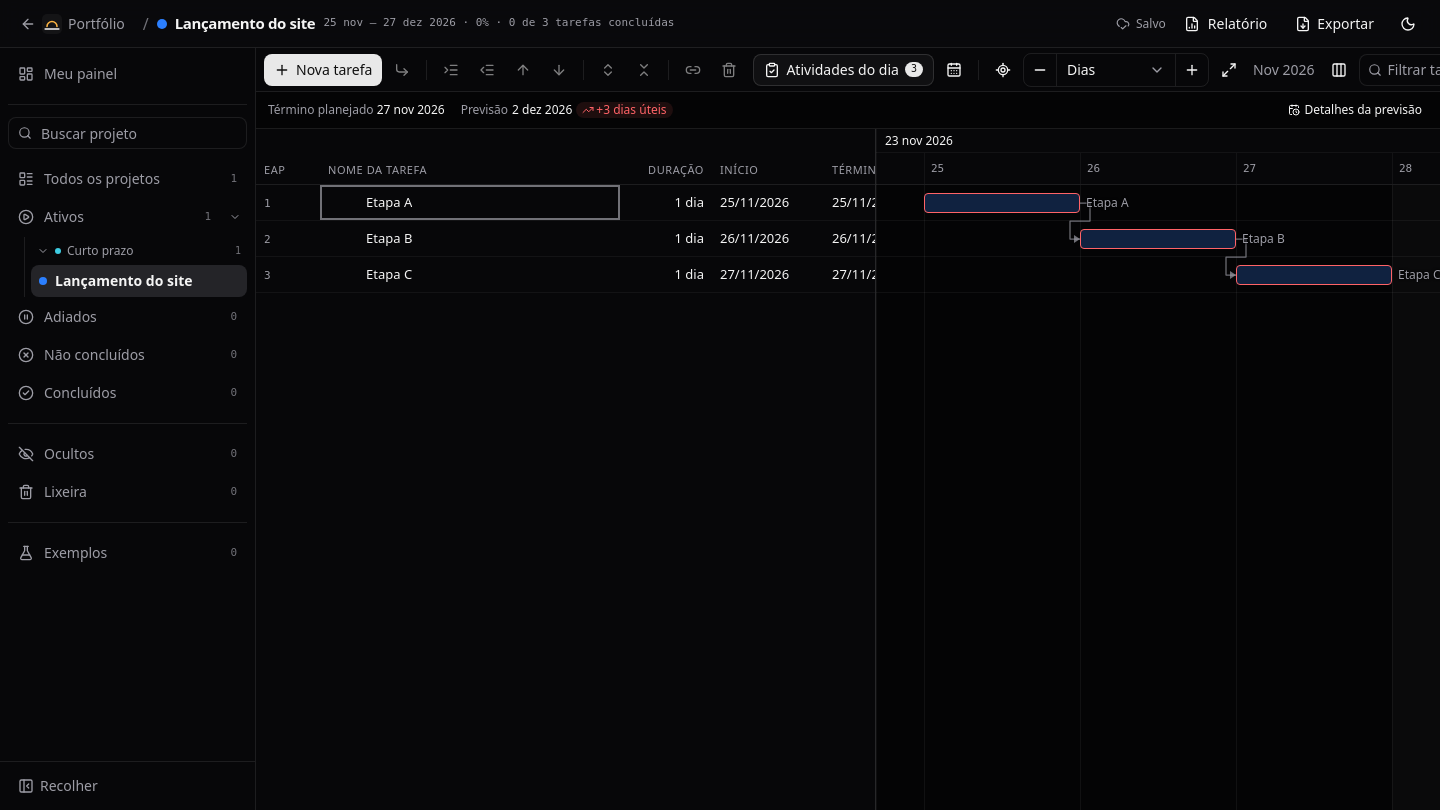
Test: finish forecast › saves a baseline that stays when the plan changes
Click the button "Detalhes da previsão": (1355,110) [1282, 98, 1428, 122]
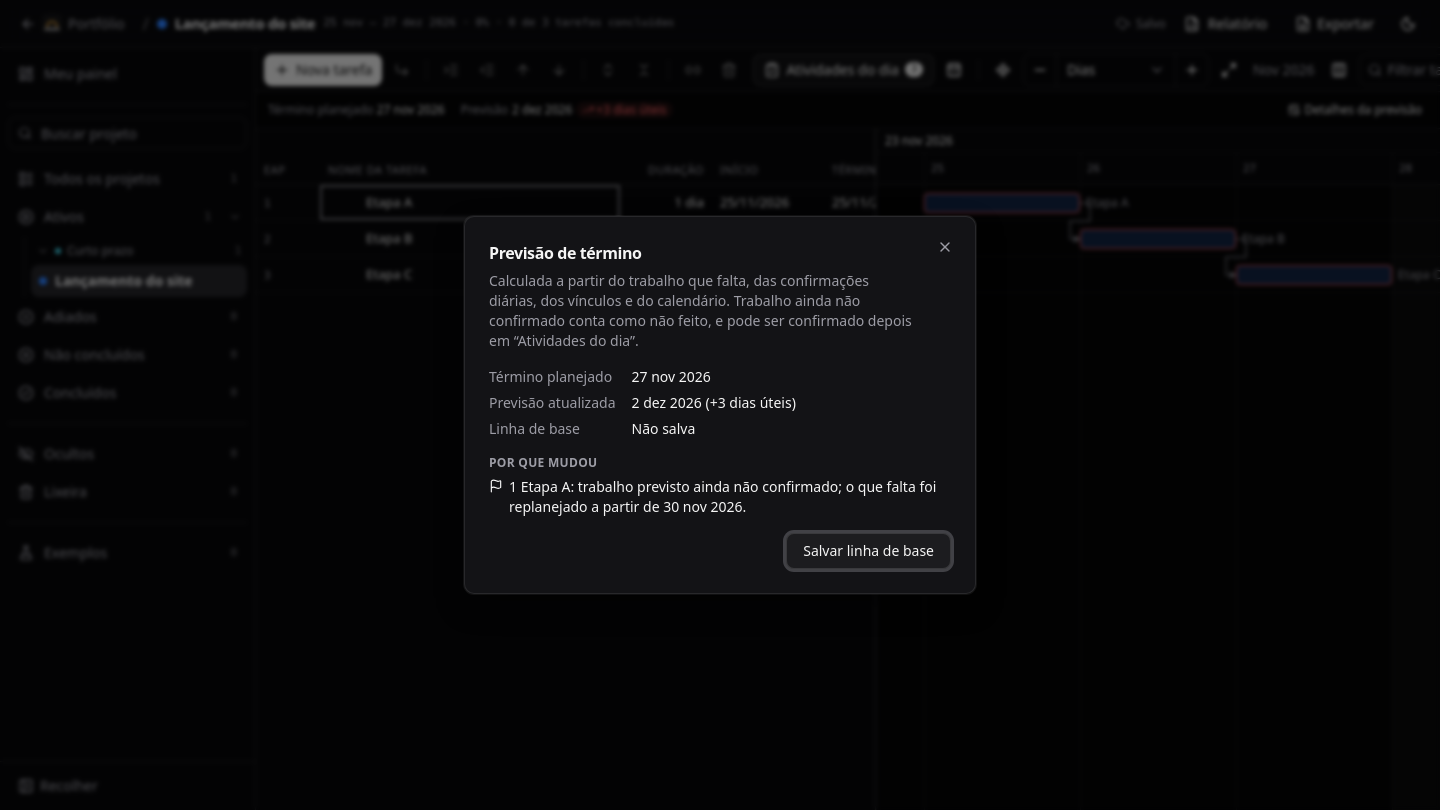
Click the button "Salvar linha de base": (869,551) [786, 533, 951, 569]
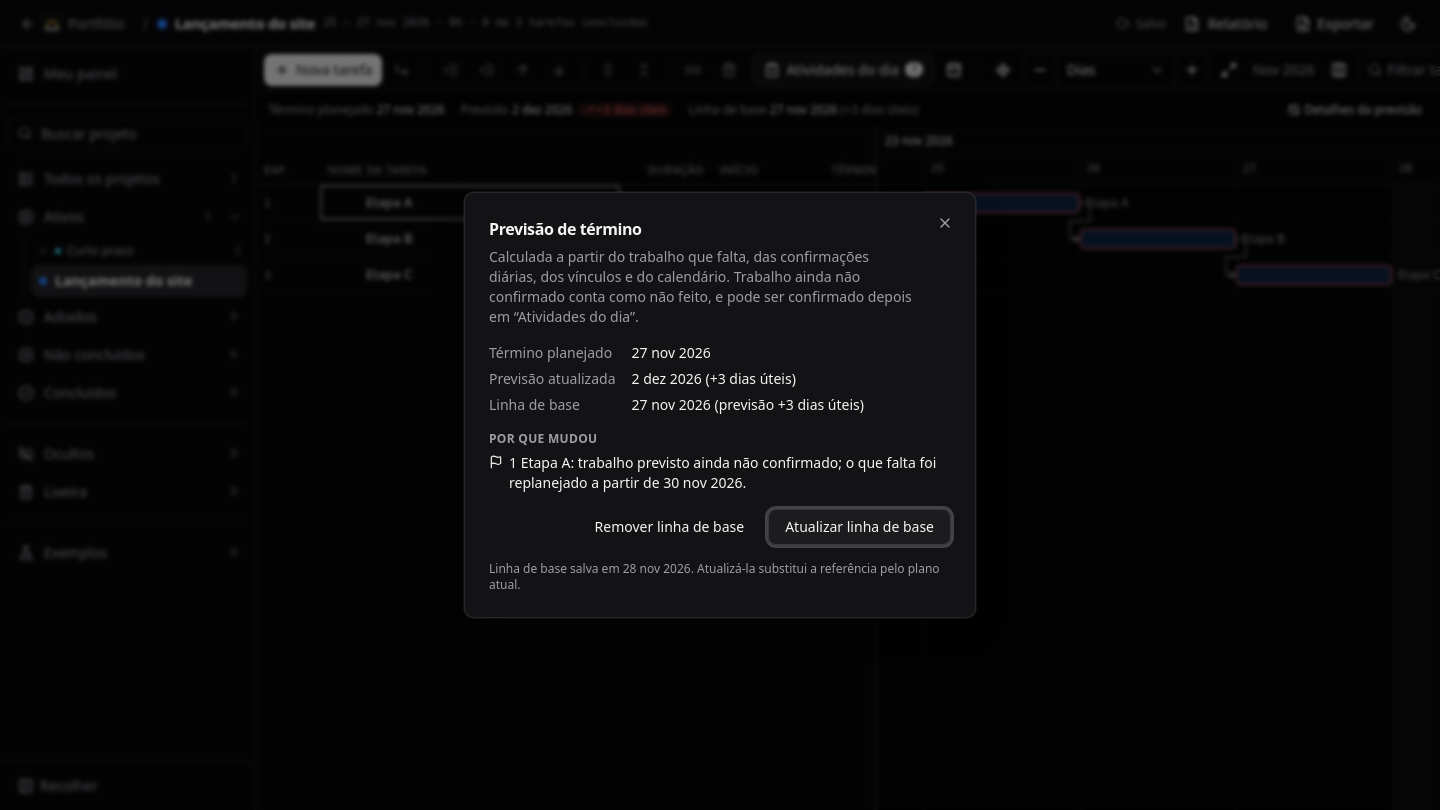
Expected: the button "Atualizar linha de base" is shown, [768, 509, 951, 545]
Expected: the text "Linha de base 27 nov 2026 (+3 dias úteis)" is shown, [689, 102, 918, 118]
